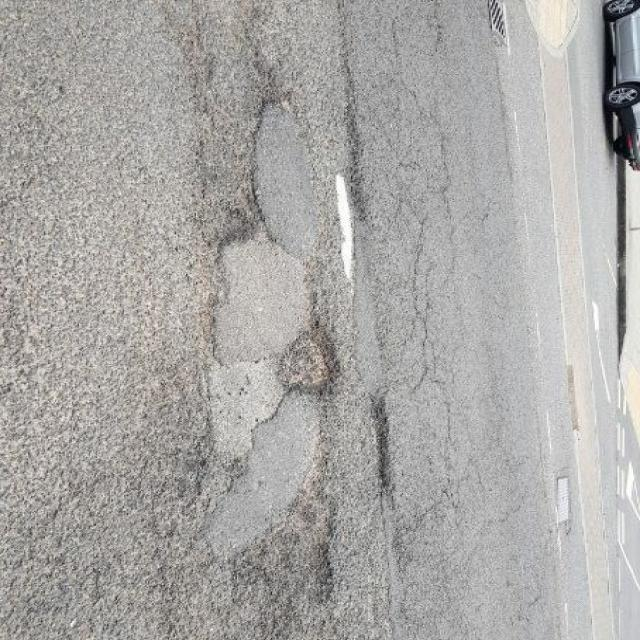Pothole: (281, 488, 348, 608), (265, 319, 355, 395), (207, 165, 274, 249), (362, 395, 403, 489)
